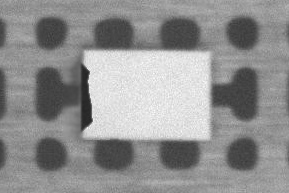DIE_BROKEN: (78, 61, 93, 131)
